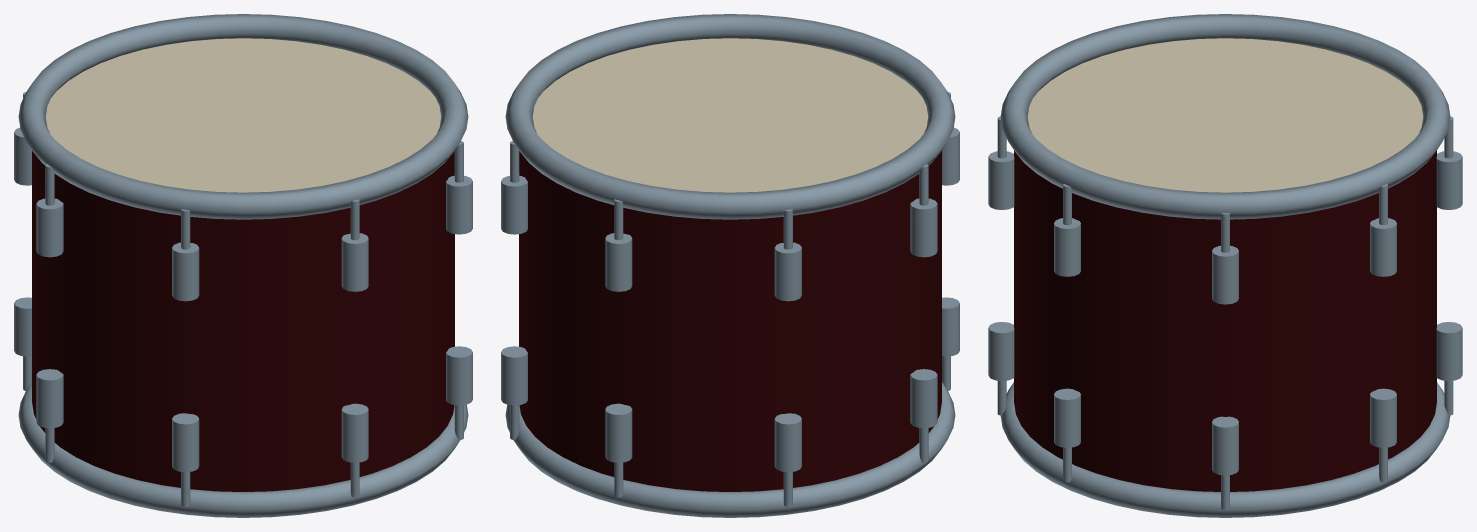
The model's file is Tom1.obj.
The picture shows the model from 3 angles, left to right: view 1: azimuth 30°, elevation 25°; view 2: azimuth 150°, elevation 25°; view 3: azimuth 270°, elevation 25°; orthographic projection.
Parts seen in each view (by area): view 1: Tom1_shell.001; view 2: Tom1_shell.001; view 3: Tom1_shell.001.
Boxes of the visible parts, x1,y1,x2,y2 form: Tom1_shell.001: (14,14,472,517); Tom1_shell.001: (501,14,959,517); Tom1_shell.001: (988,14,1462,517).
Size of the model in its own units: 0.314 by 0.2336 by 0.314.
